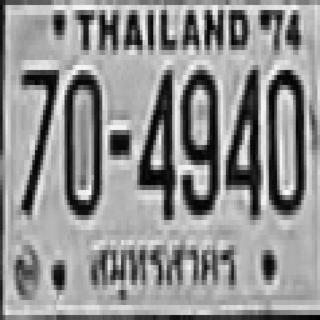N00: (62, 65, 100, 215), (266, 65, 304, 210)
N04: (224, 62, 260, 212), (137, 65, 172, 215)
N07: (19, 65, 57, 210)
N09: (179, 65, 217, 210)
P58: (85, 233, 238, 302)
